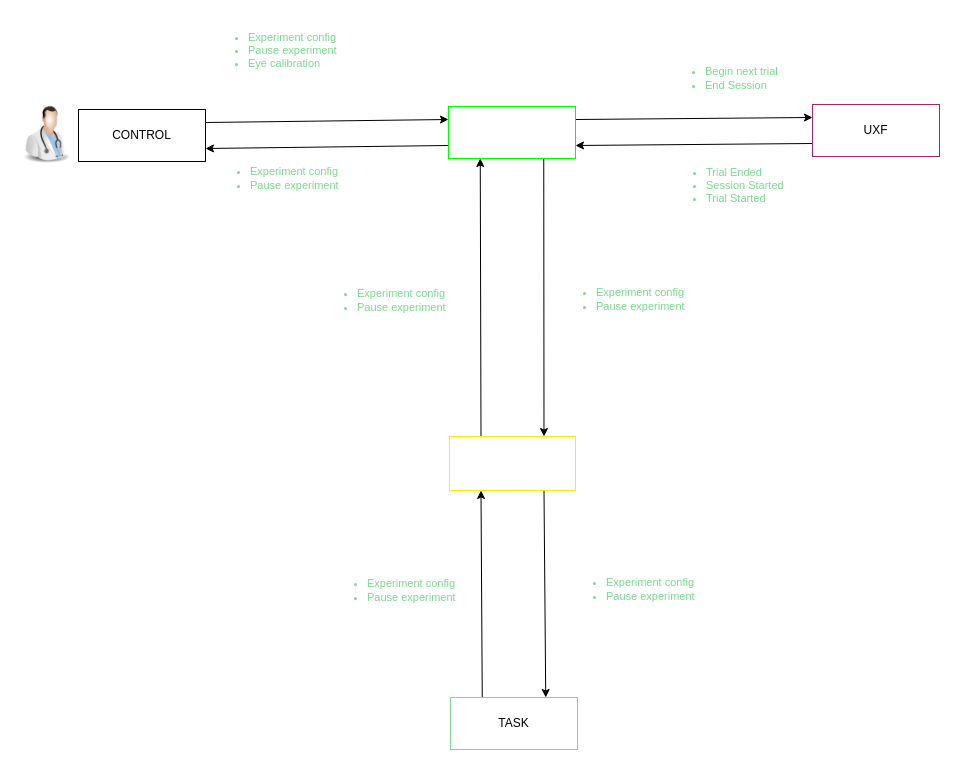
Some shapes in this 957 by 767 pixel diagram are drawn without their labels. Here are the shapes that lost their labels. From the top down, the box of each, then its label:
(448, 106, 576, 158): EXP
(448, 436, 576, 490): TASKBASE
